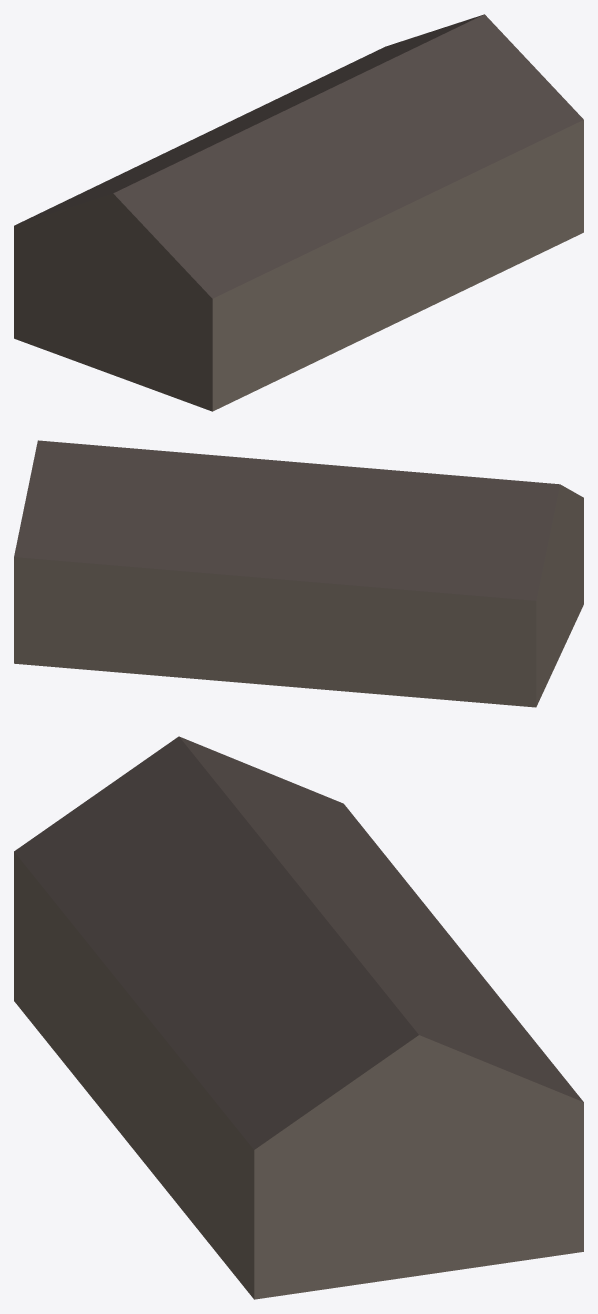
The picture shows the model from 3 angles, top to bottom: view 1: azimuth 30°, elevation 25°; view 2: azimuth 150°, elevation 25°; view 3: azimuth 270°, elevation 25°; orthographic projection. The views are drawn at different scales.
Parts seen in each view (by area): view 1: HP-w859457313; view 2: HP-w859457313; view 3: HP-w859457313.
Boxes of the visible parts, x1=… form: HP-w859457313: x1=14, y1=14, x2=583, y2=411; HP-w859457313: x1=14, y1=440, x2=583, y2=707; HP-w859457313: x1=14, y1=736, x2=583, y2=1299.
Bounding box in the file's own units: 29.82 × 9.66 × 20.73.
